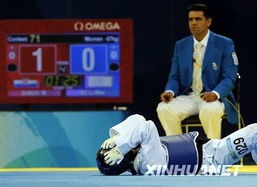falling: (90, 111, 256, 176)
